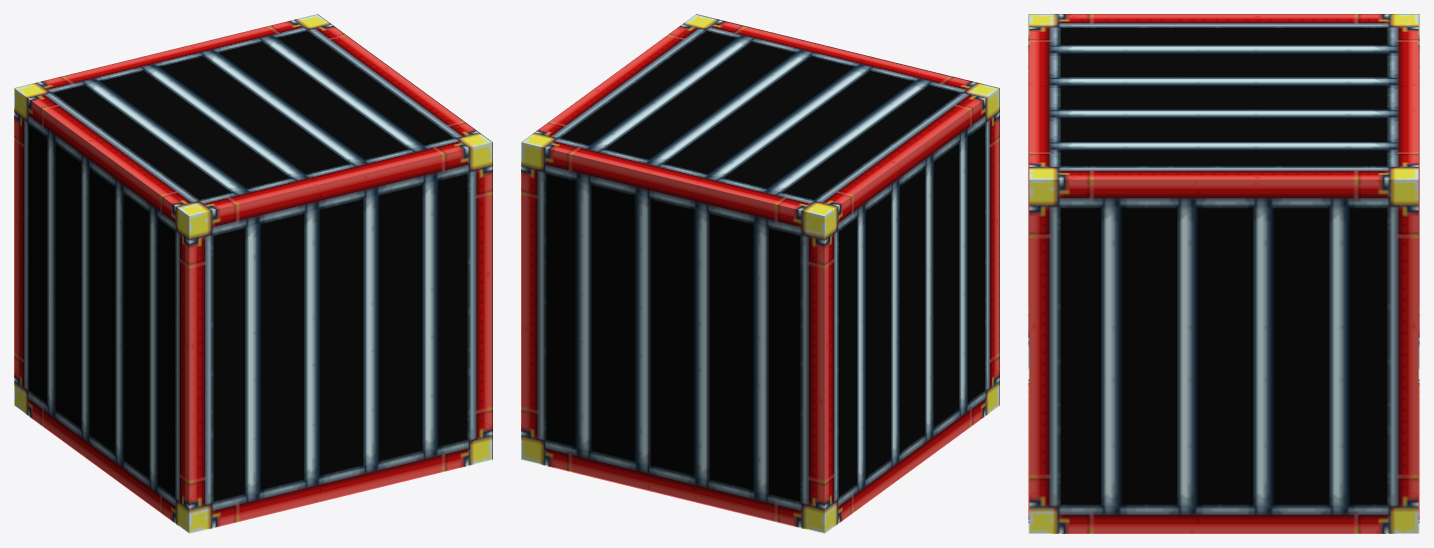
File: Red Cage.obj
3 renders of one model, left to right at view 1: azimuth 30°, elevation 25°; view 2: azimuth 150°, elevation 25°; view 3: azimuth 270°, elevation 25°, orthographic. The views are drawn at different scales.
Size of the model in its own units: 20 by 20 by 20.
